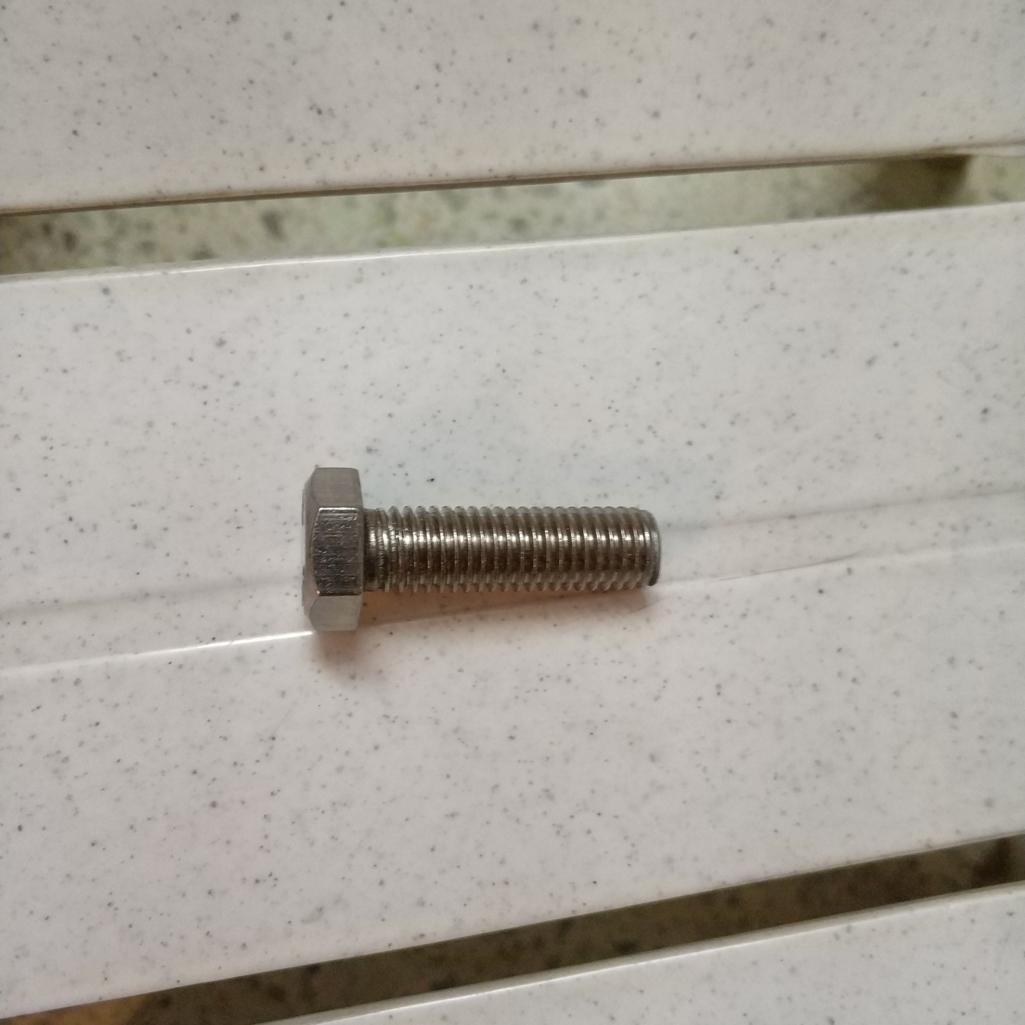screwtype2silver: (299, 454, 670, 638)
